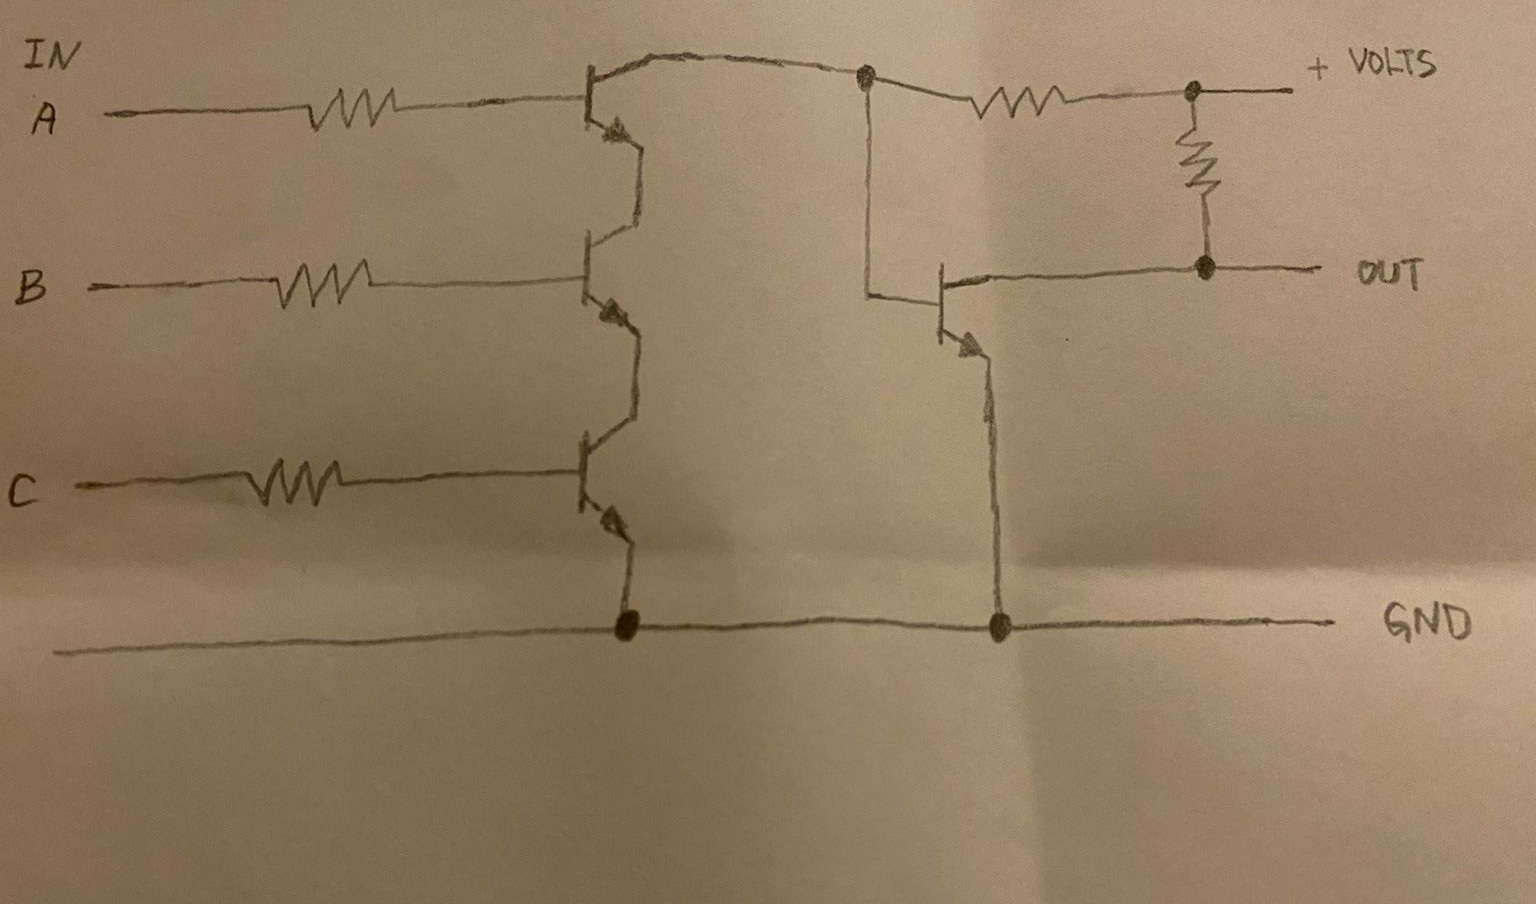junction: (584, 592, 667, 658), (961, 587, 1032, 660), (836, 44, 896, 109), (1182, 239, 1227, 288), (1174, 71, 1213, 110)
resistor: (234, 442, 360, 515), (266, 248, 383, 317), (293, 76, 409, 142), (950, 76, 1085, 127), (1174, 121, 1233, 209)
terminal: (42, 637, 77, 670), (79, 272, 106, 299), (94, 102, 120, 126), (1306, 257, 1329, 280), (1321, 612, 1345, 634), (67, 474, 86, 496), (1281, 81, 1302, 101)
text: (1377, 592, 1480, 646), (1351, 246, 1432, 299), (1345, 41, 1449, 81), (19, 25, 85, 77), (19, 94, 76, 141), (10, 258, 52, 320), (6, 464, 45, 522), (1305, 50, 1337, 88)
transistor: (559, 401, 681, 557), (568, 206, 682, 347), (566, 36, 689, 165), (906, 246, 1032, 372)
